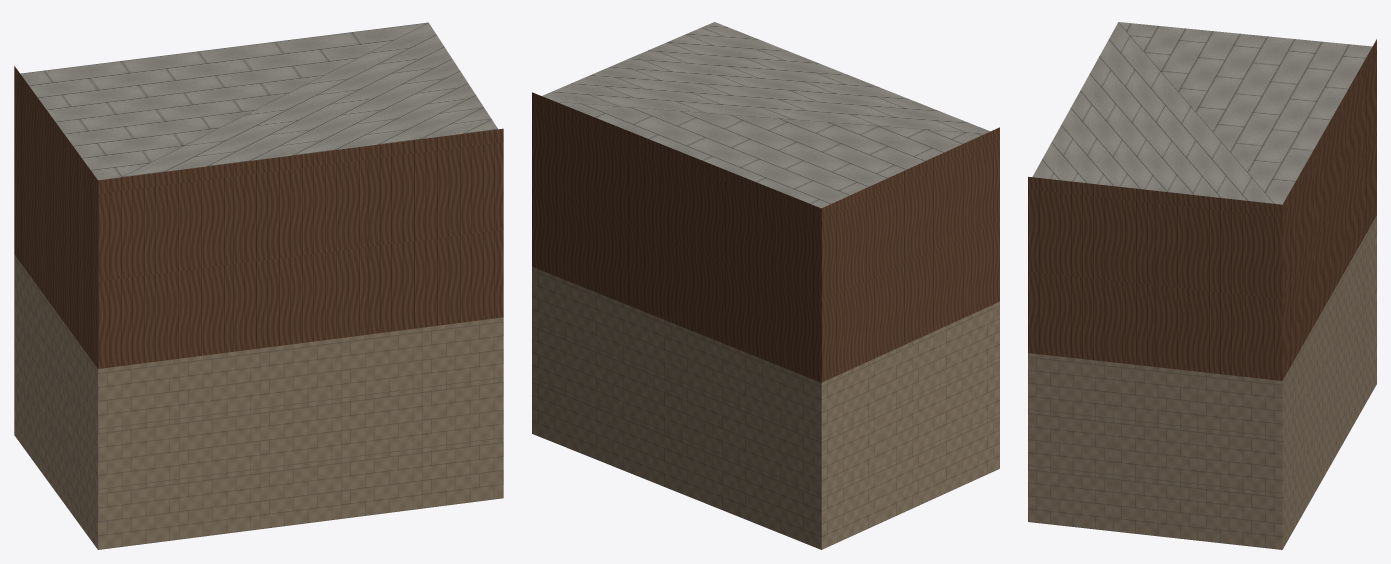
Rendered from bld_c10_8_512.gltf.
3 renders of one model, left to right at view 1: azimuth 30°, elevation 25°; view 2: azimuth 150°, elevation 25°; view 3: azimuth 270°, elevation 25°, orthographic. The views are drawn at different scales.
Visible parts, largest first — view 1: bld_c10_8_512; view 2: bld_c10_8_512; view 3: bld_c10_8_512.
Part boxes in pixels (x1,y1,x2,y2): bld_c10_8_512: (14, 22, 503, 549); bld_c10_8_512: (532, 22, 999, 549); bld_c10_8_512: (1028, 22, 1376, 549).
Size of the model in its own units: 12.3 by 10.38 by 9.5.
4 materials, 4 textured.
